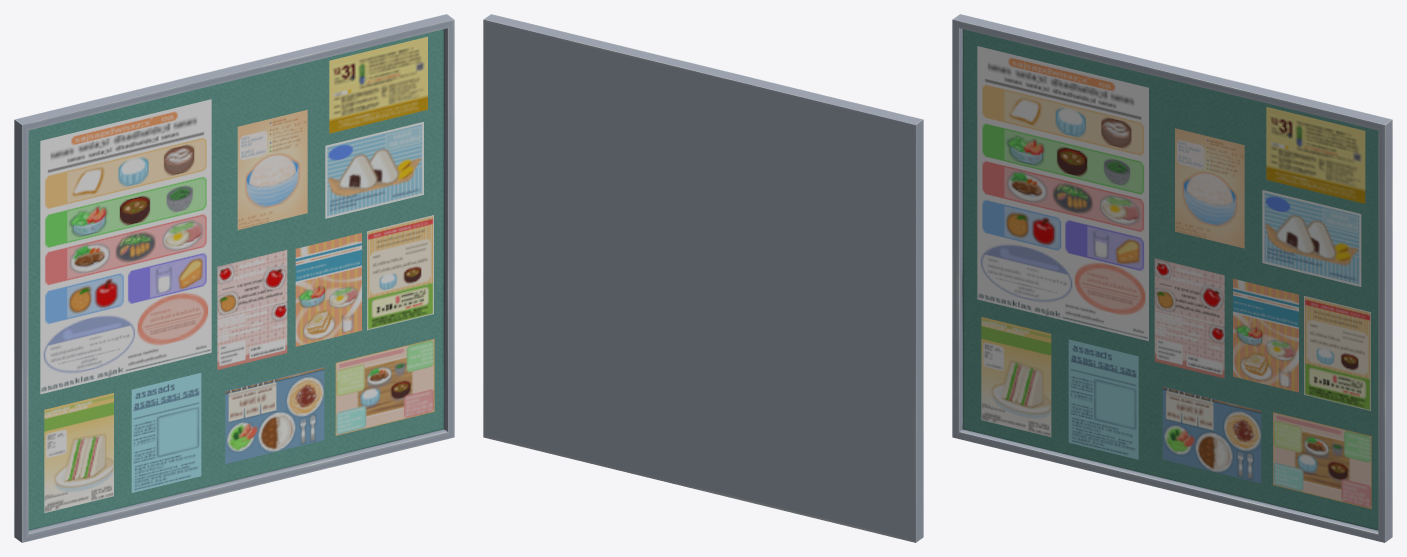
The model's file is KR_Board_01_01.fbx.
3 renders of one model, left to right at view 1: azimuth 30°, elevation 25°; view 2: azimuth 150°, elevation 25°; view 3: azimuth 330°, elevation 25°, orthographic.
Parts seen in each view (by area): view 1: board01_01, paperB2_01, paperA4_011, paperA4_012, paperA4_014, paperA4_06, paperA4_05, paperA4_016, paperA4_02, paperA4_013, paperB5_01, paperA4_01; view 2: board01_01; view 3: board01_01, paperB2_01, paperA4_011, paperA4_013, paperA4_014, paperA4_05, paperA4_02, paperA4_016, paperA4_06, paperA4_012, paperB5_01, paperA4_01.
Boxes of the visible parts, x1,y1,x2,y2 form: board01_01: (14,14,454,542); paperB2_01: (40,99,211,394); paperA4_011: (217,250,287,369); paperA4_012: (237,110,307,229); paperA4_014: (131,373,201,492); paperA4_06: (335,338,434,435); paperA4_05: (225,367,324,463); paperA4_016: (325,122,423,218); paperA4_02: (329,36,427,133); paperA4_013: (44,393,113,512); paperB5_01: (367,215,433,330); paperA4_01: (295,233,361,346); board01_01: (483,14,923,542); board01_01: (952,14,1392,542); paperB2_01: (977,46,1148,341); paperA4_011: (1154,258,1224,378); paperA4_013: (981,317,1051,436); paperA4_014: (1068,339,1138,459); paperA4_05: (1162,386,1261,483); paperA4_02: (1266,107,1365,203); paperA4_016: (1262,190,1361,286); paperA4_06: (1273,412,1371,508); paperA4_012: (1175,128,1244,248); paperB5_01: (1304,296,1370,410); paperA4_01: (1233,278,1298,392).
Bounding box in the file's own units: 130 × 120 × 4.
